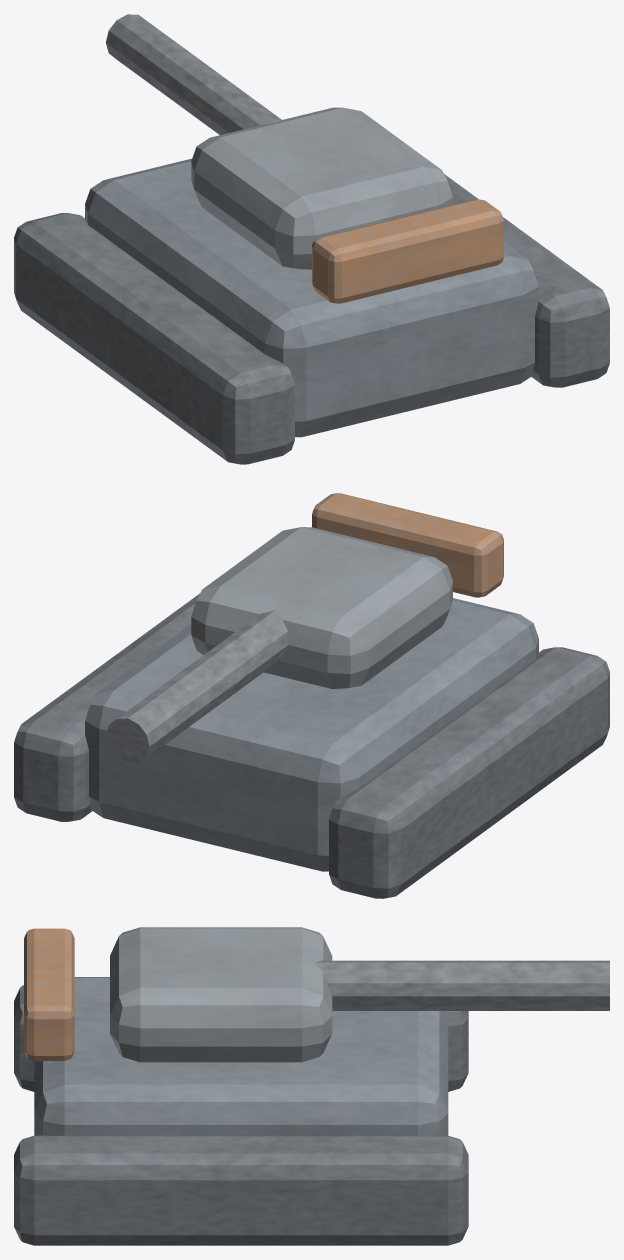
The model's file is dir_cannon_tank.glb.
3 views of the same model, one above another, from view 1: azimuth 30°, elevation 25°; view 2: azimuth 150°, elevation 25°; view 3: azimuth 270°, elevation 25° (orthographic).
Visible parts, largest first — view 1: dir_cannon_tank; view 2: dir_cannon_tank; view 3: dir_cannon_tank.
Boxes of the visible parts, x1,y1,x2,y2 form: dir_cannon_tank: (14,14,609,464); dir_cannon_tank: (14,493,609,898); dir_cannon_tank: (14,927,609,1245).
Size of the model in its own units: 0.88 by 0.44 by 1.18.
1 material, 1 textured.
